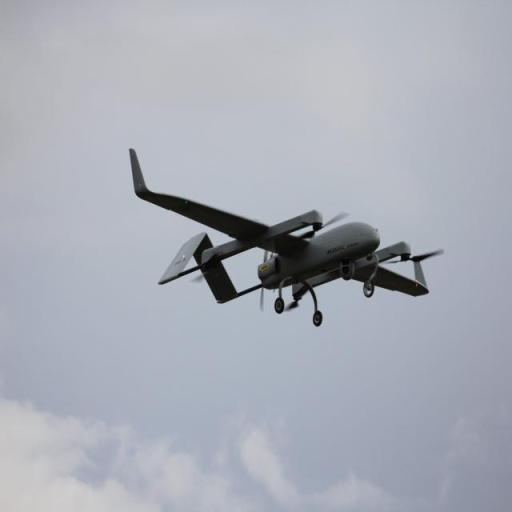uav: (126, 146, 439, 327)
